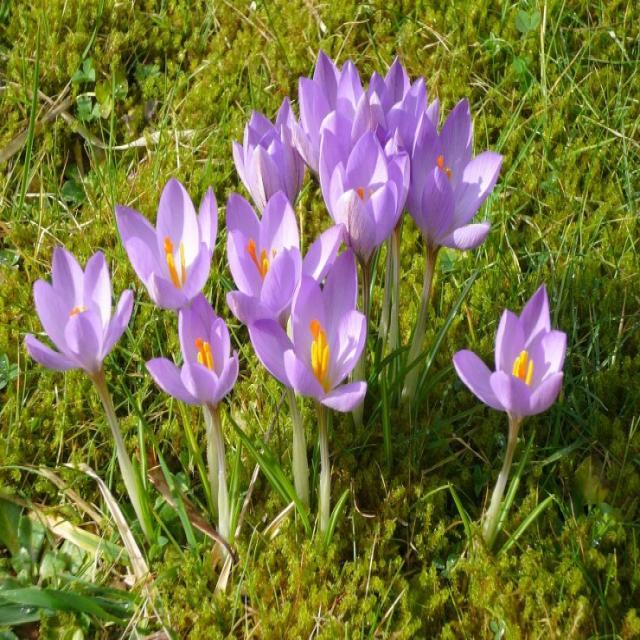Flower: (452, 285, 566, 545), (144, 309, 246, 421), (273, 298, 365, 422), (40, 250, 114, 390), (127, 199, 221, 302)
